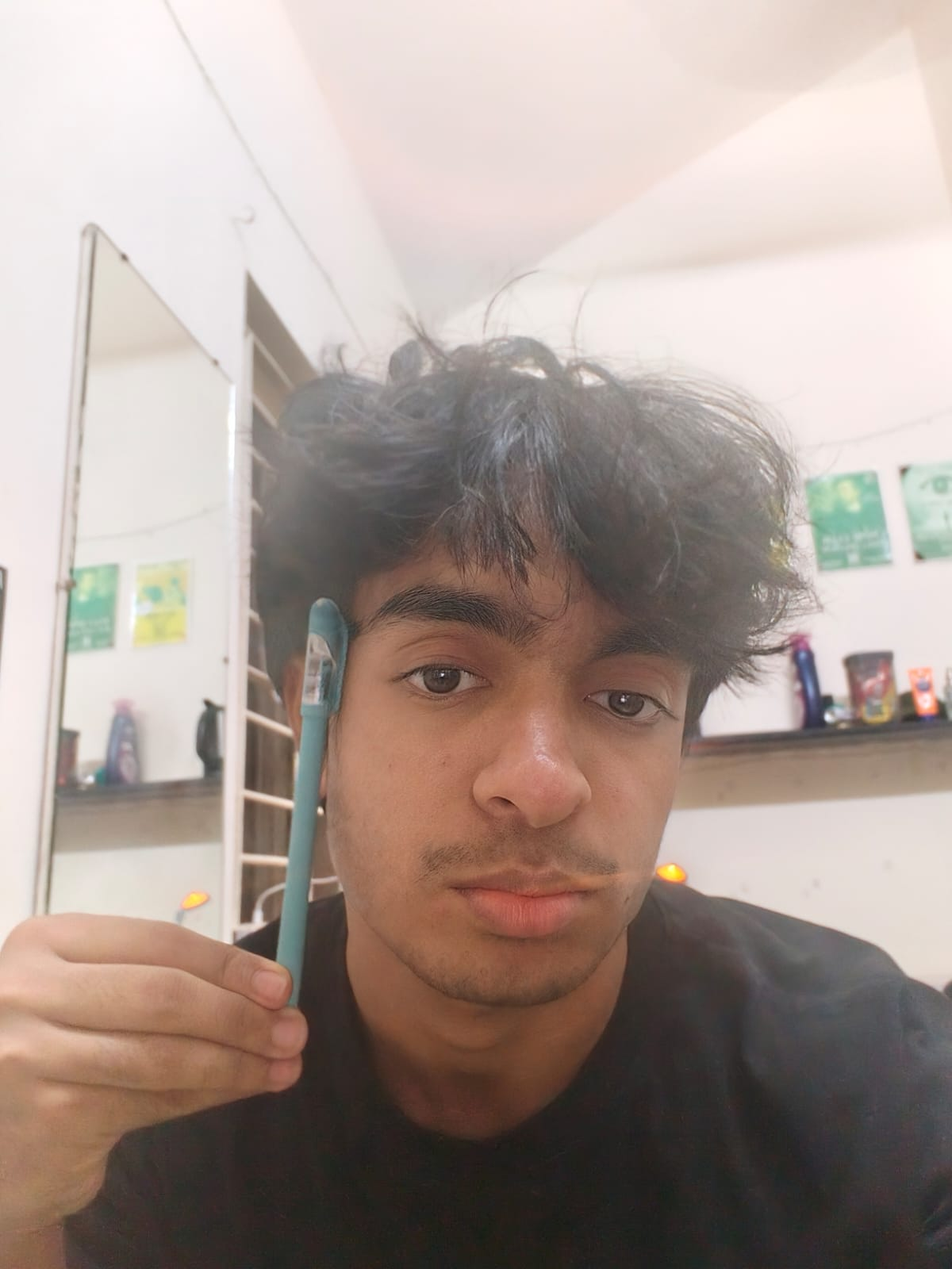pen: (263, 588, 375, 1025)
